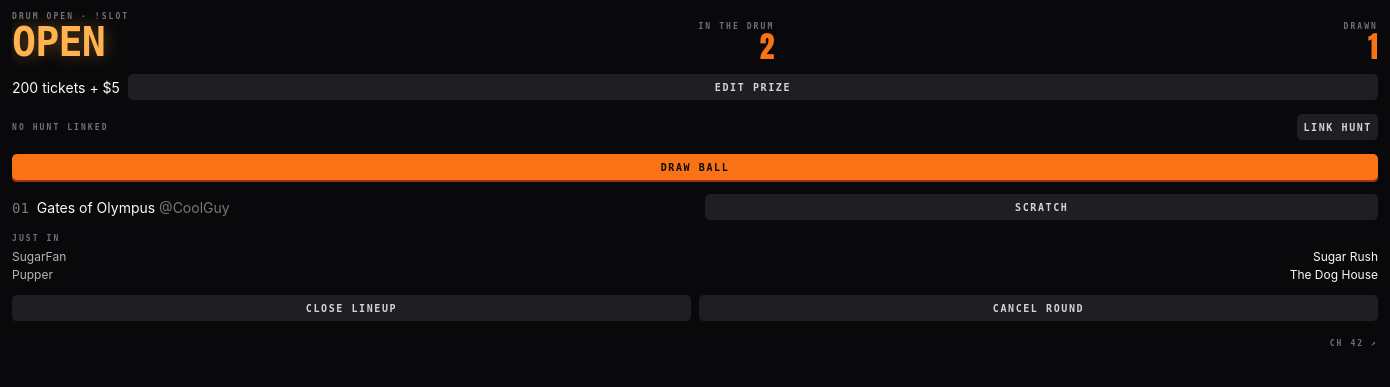
Test: server errors show in words
The width and height of the screenshot is (1390, 387).
Click the button "Draw ball": point(695, 168) [12,154,1378,182]
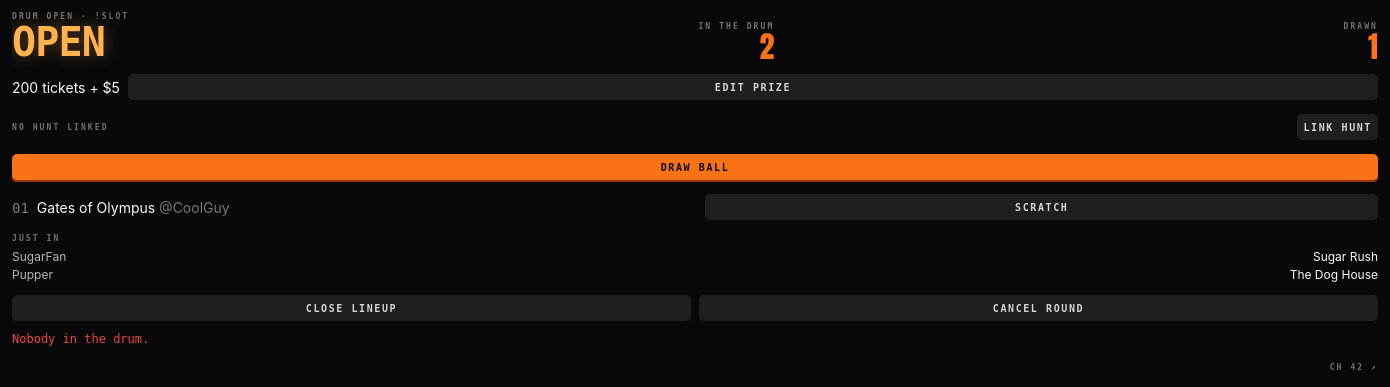
Now the text "Nobody in the drum." is shown, box [12,332,149,346]
